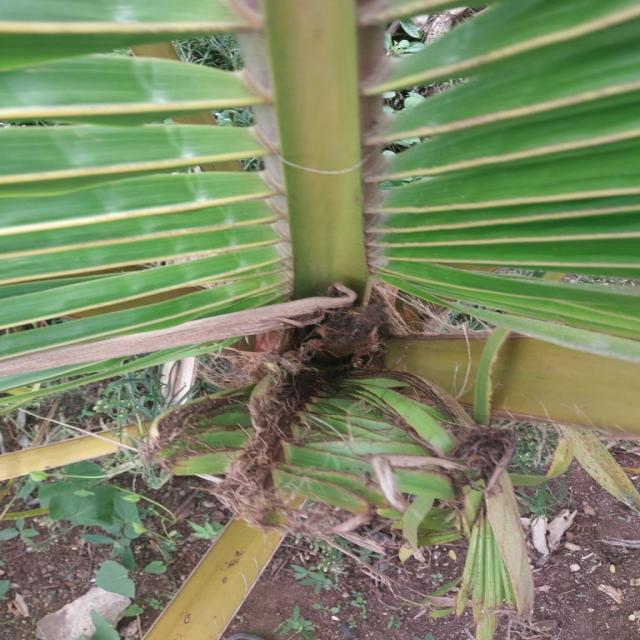bud rot: (143, 304, 532, 640)
